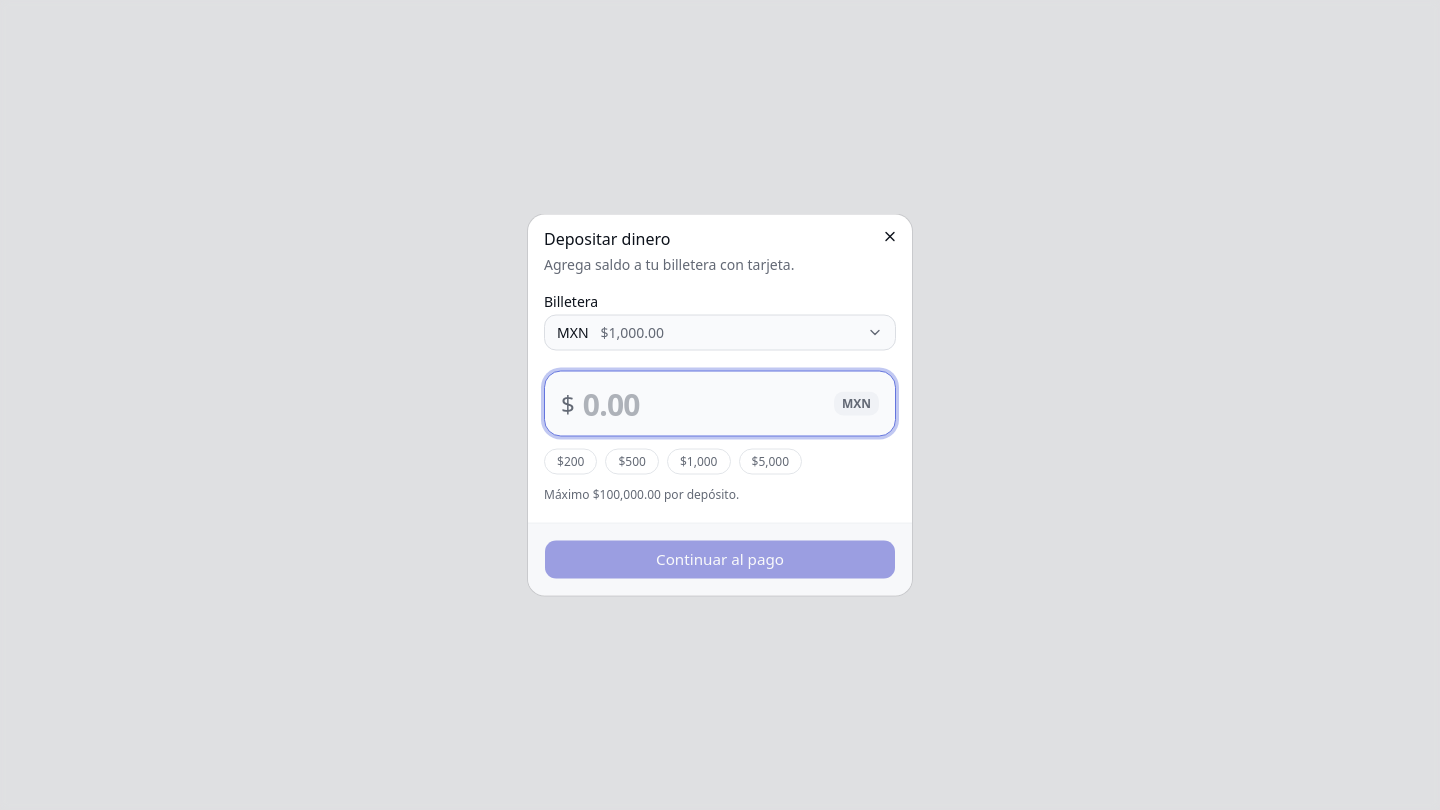
Test case: DepositDialog › credits a completed deposit and shows the new balance
Type "500" into the field named "Monto". click: (704, 404)
box: x1=583 y1=372 x2=826 y2=436
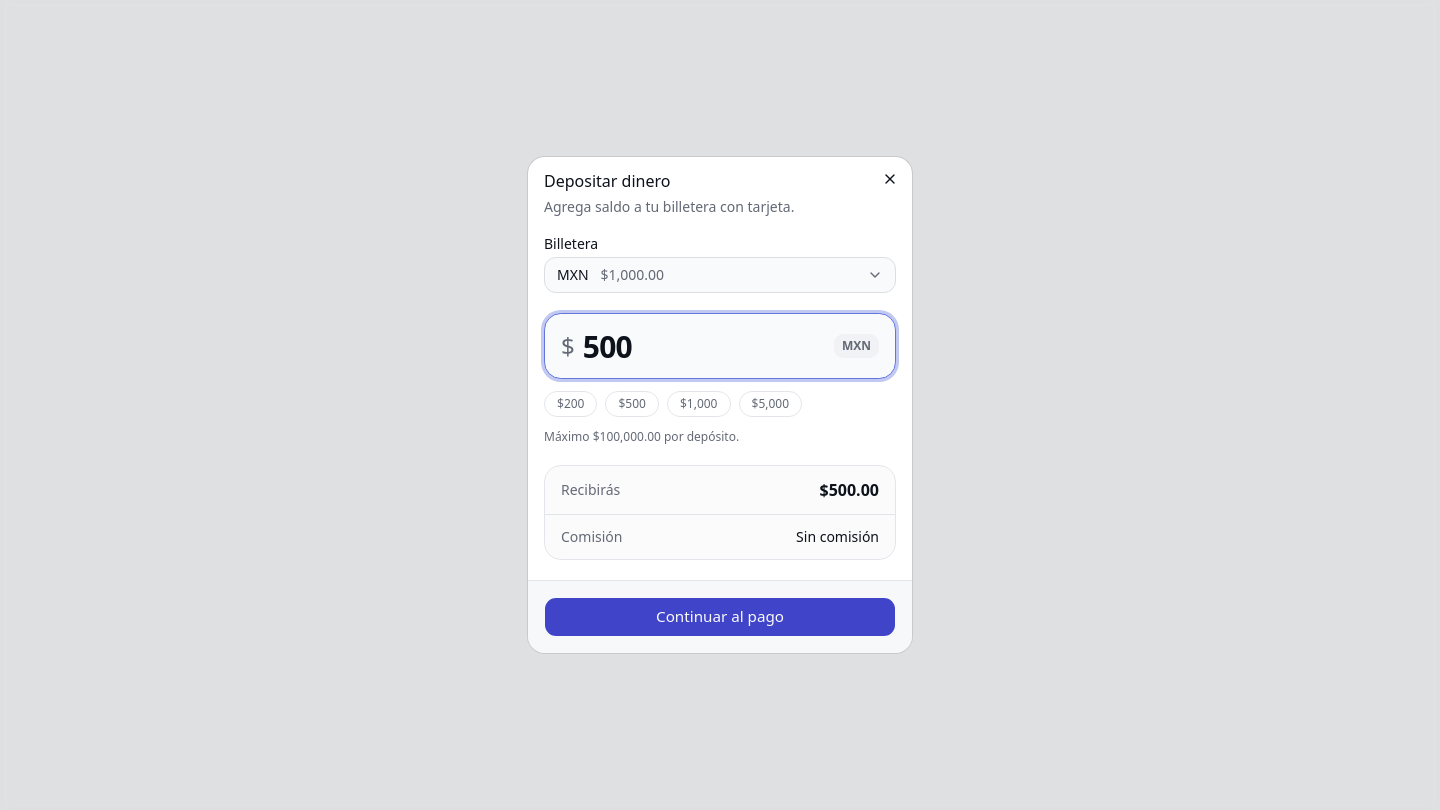
Click the button "Continuar al pago". click: (720, 617)
box: x1=544 y1=597 x2=896 y2=637
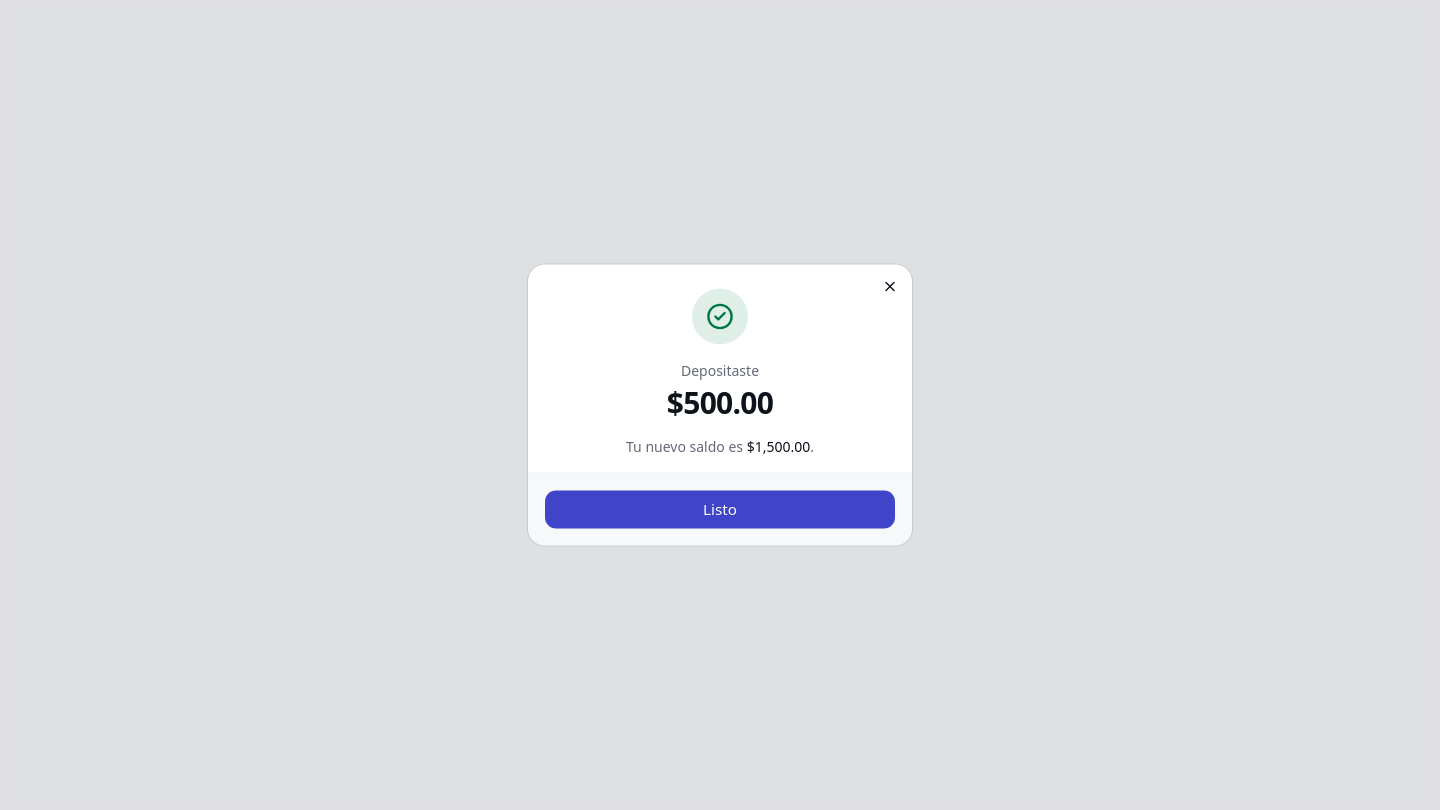
Now the text "Depositaste" is shown, box x1=681 y1=360 x2=759 y2=380
Now the text "$1,500.00" is shown, box x1=747 y1=436 x2=810 y2=456
